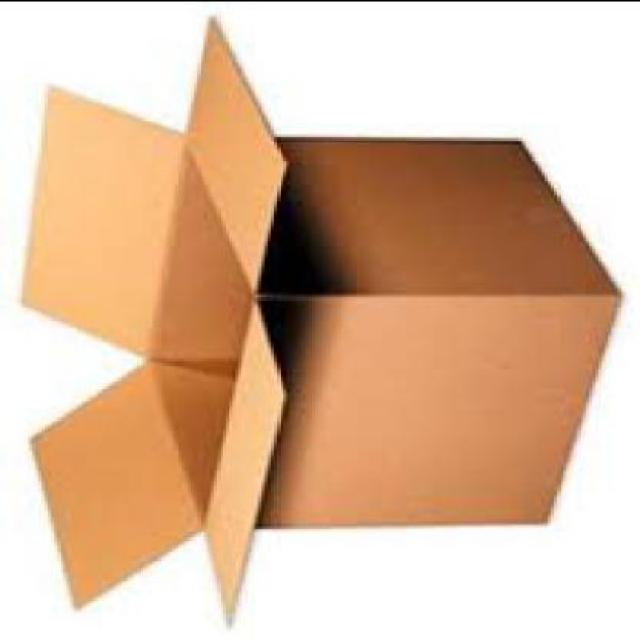CARDBOARD: (16, 12, 618, 625)
